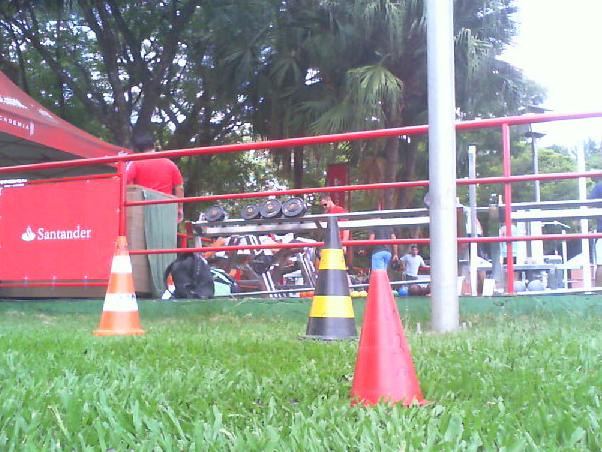0 cone: (348, 270, 431, 408), (298, 216, 359, 343), (93, 236, 146, 337)
